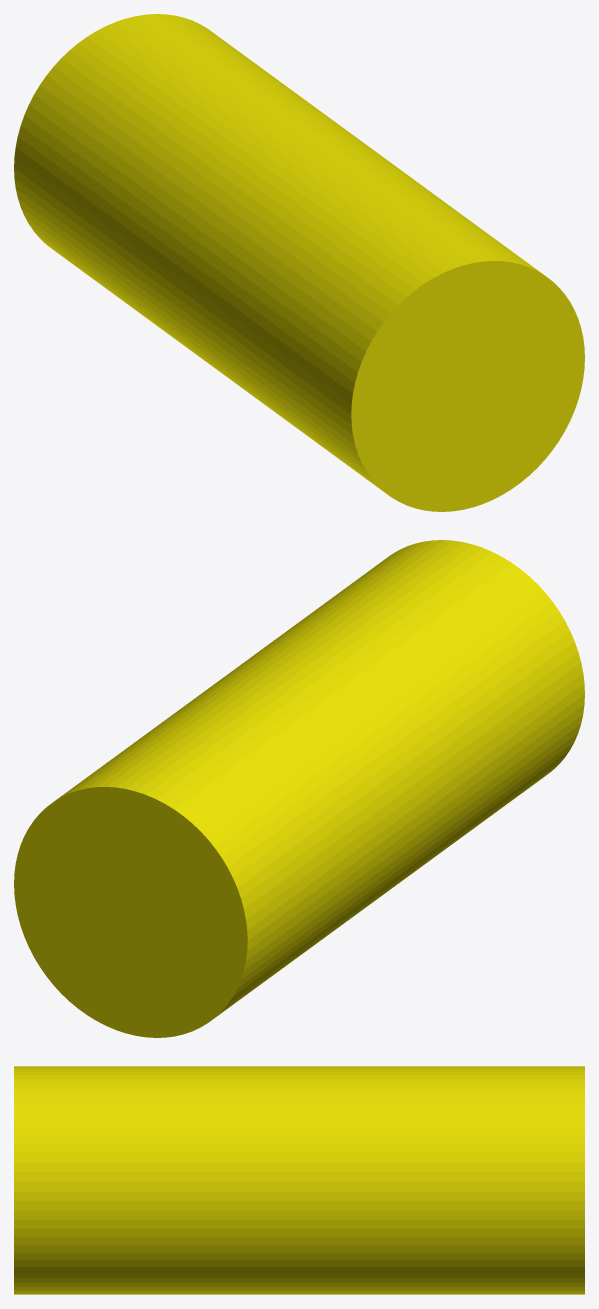
The model's file is YellowBuoyColor.dae.
The picture shows the model from 3 angles, top to bottom: view 1: azimuth 30°, elevation 25°; view 2: azimuth 150°, elevation 25°; view 3: azimuth 270°, elevation 25°; orthographic projection. The views are drawn at different scales.
Parts seen in each view (by area): view 1: YELLOW-BUOY; view 2: YELLOW-BUOY; view 3: YELLOW-BUOY.
Boxes of the visible parts, bbox=[...] form: YELLOW-BUOY: bbox=[14, 14, 584, 511]; YELLOW-BUOY: bbox=[14, 540, 584, 1037]; YELLOW-BUOY: bbox=[14, 1066, 584, 1294].
Bounding box in the file's own units: 10.16 × 25.4 × 10.15.
